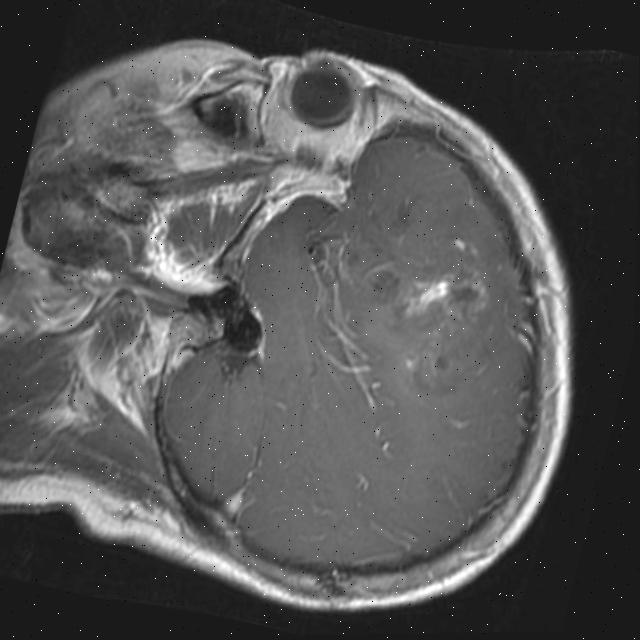Glioma: (391, 221, 505, 341)
